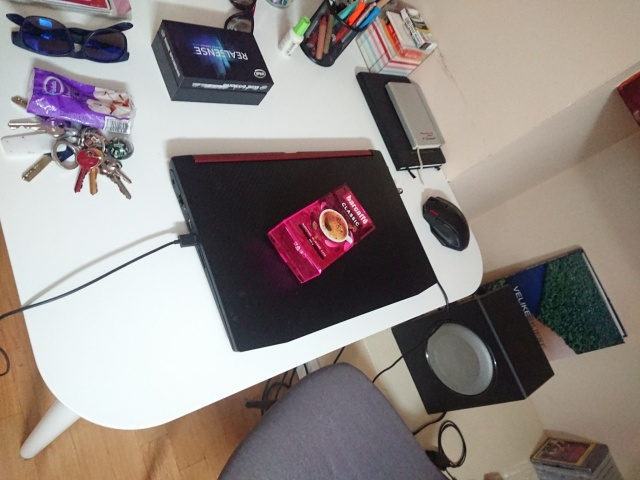Barcaffe Classic Original 225g: (265, 181, 379, 287)
